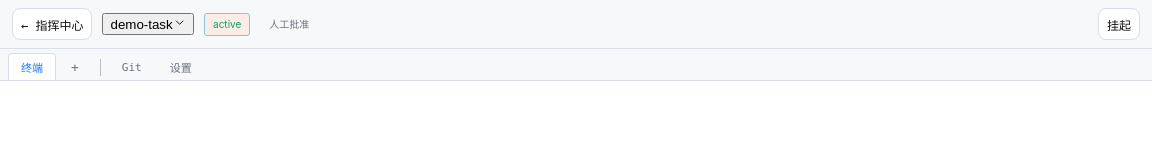
Scenario: 工作台移动任务切换器（Z-F1） › local-path 任务携带非空 branch：切换器行不渲染分支名（worktree 行对照保留）
// 打开切换器（≤767px 页头任务切换器）
Click the button with class "wb-switcher-btn": (148, 24) [102,13,194,35]
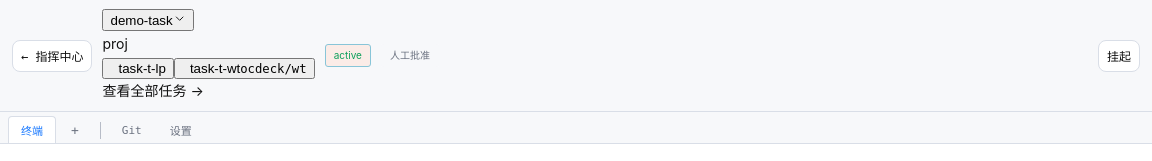
Expected: the text with class "mono" reads "ocdeck/wt", [240,62,307,76]
